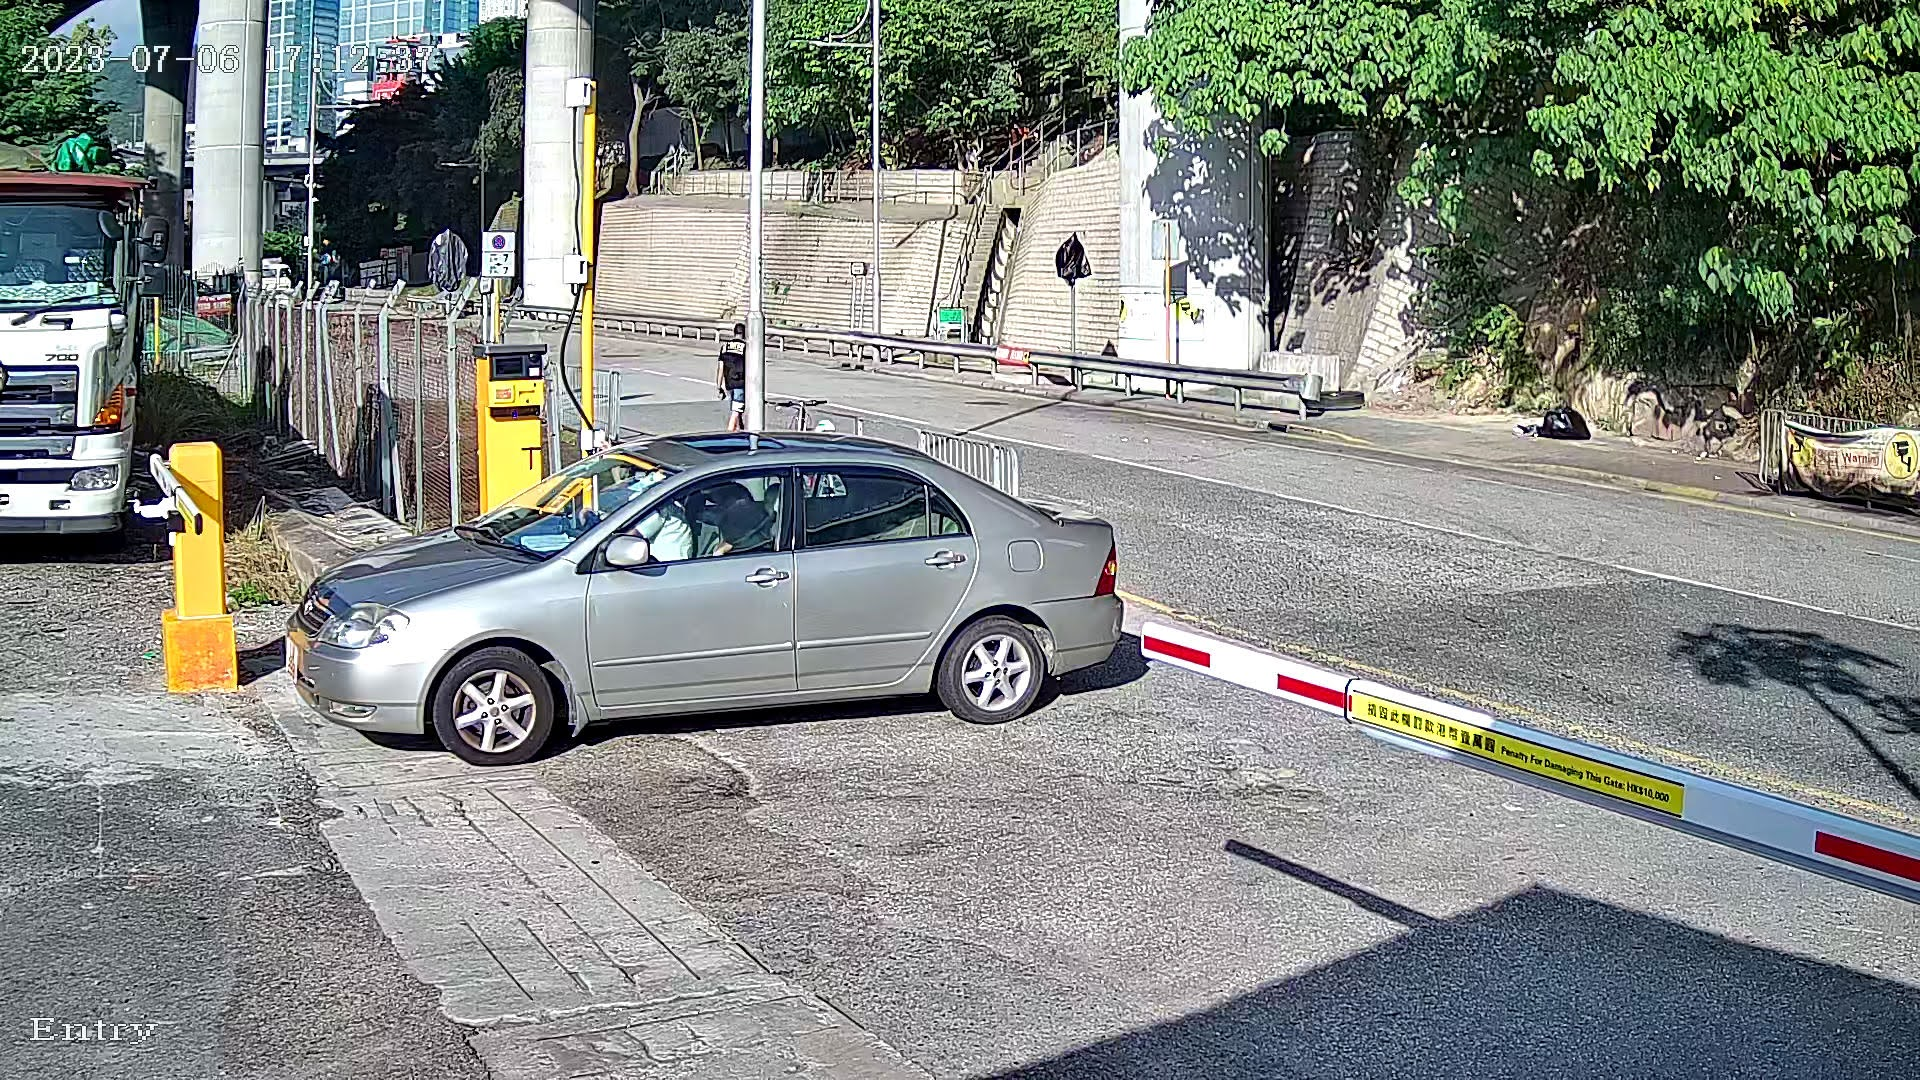privatecar: (233, 349, 1158, 812)
